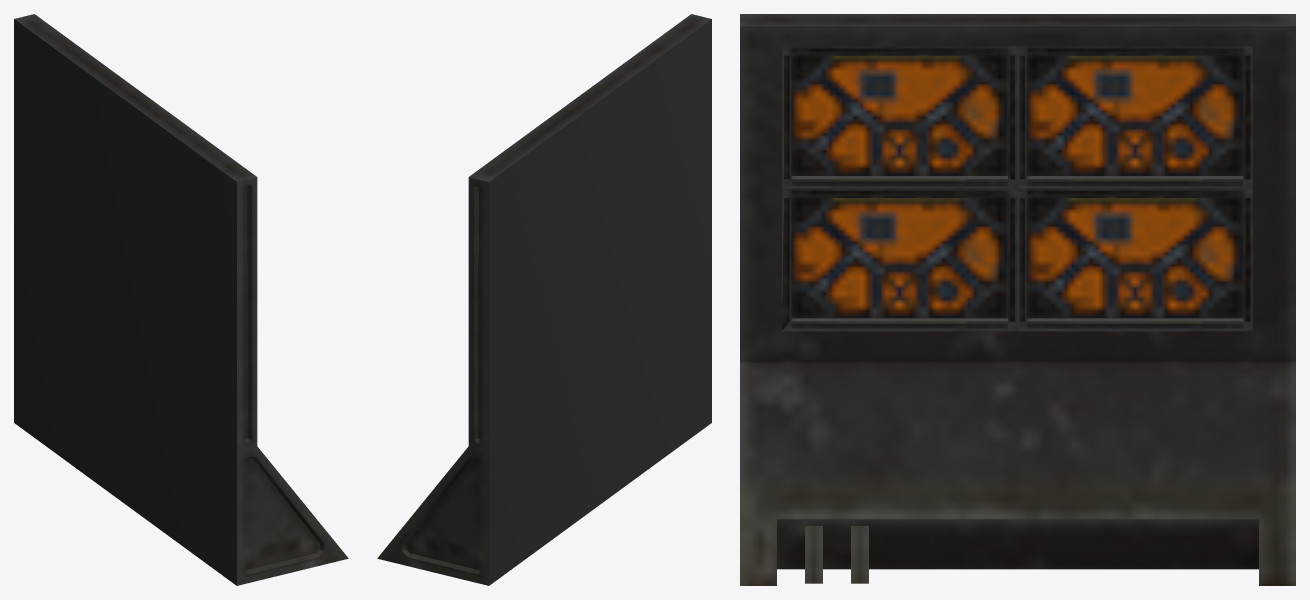
The model's file is Wall_04.FBX.
3 renders of one model, left to right at view 1: azimuth 30°, elevation 25°; view 2: azimuth 150°, elevation 25°; view 3: azimuth 270°, elevation 25°, orthographic. The views are drawn at different scales.
Parts seen in each view (by area): view 1: Wall_04; view 2: Wall_04; view 3: Wall_04.
Part boxes in pixels (x1,y1,x2,y2): Wall_04: [14, 14, 348, 585]; Wall_04: [377, 14, 711, 585]; Wall_04: [740, 14, 1295, 585].
Bounding box in the file's own units: 87.08 × 300 × 300.
